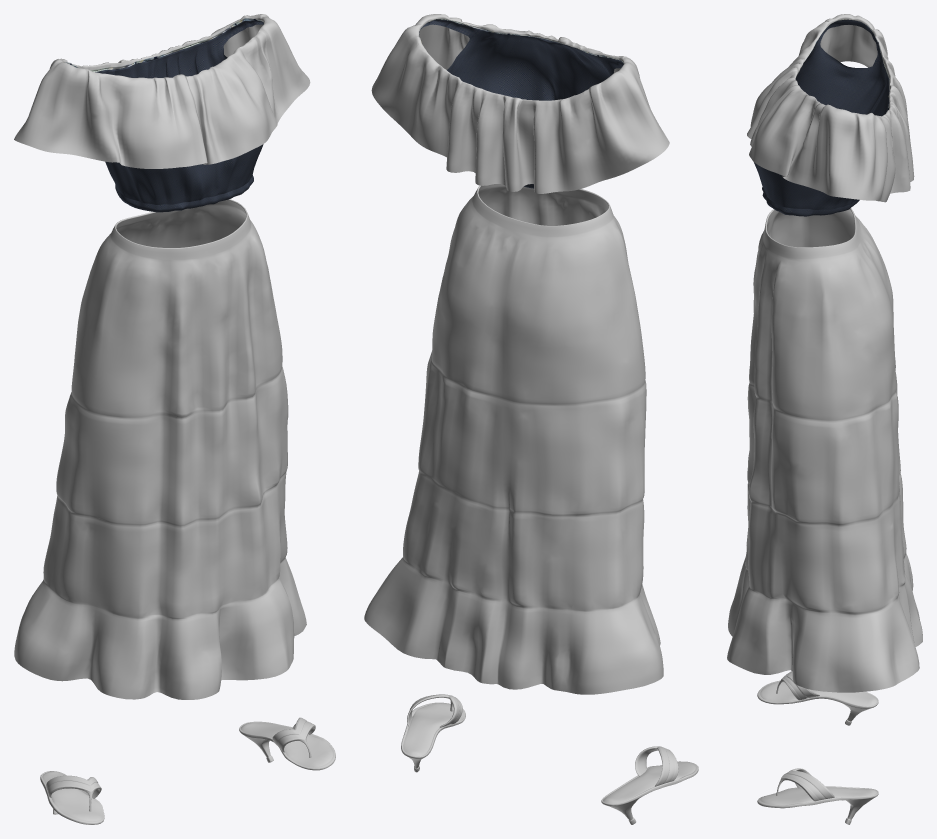
The model's file is dress1.gltf.
The picture shows the model from 3 angles, left to right: view 1: azimuth 30°, elevation 25°; view 2: azimuth 150°, elevation 25°; view 3: azimuth 270°, elevation 25°; orthographic projection. The views are drawn at different scales.
Parts seen in each view (by area): view 1: BardotSkirt_8467.Shape, BardotTop_10570.Shape, BardotSandals_2904.Shape; view 2: BardotSkirt_8467.Shape, BardotTop_10570.Shape, BardotSandals_2904.Shape; view 3: BardotSkirt_8467.Shape, BardotTop_10570.Shape, BardotSandals_2904.Shape.
Part boxes in pixels (box(x1,y1,x2,y2)): BardotSkirt_8467.Shape: box(14, 199, 306, 699); BardotTop_10570.Shape: box(14, 14, 310, 212); BardotSandals_2904.Shape: box(40, 717, 335, 824); BardotSkirt_8467.Shape: box(364, 184, 663, 694); BardotTop_10570.Shape: box(371, 14, 669, 193); BardotSandals_2904.Shape: box(401, 694, 698, 824); BardotSkirt_8467.Shape: box(727, 208, 922, 692); BardotTop_10570.Shape: box(747, 14, 914, 216); BardotSandals_2904.Shape: box(757, 671, 878, 824).
Bounding box in the file's own units: 0.6157 × 1.53 × 0.381.
